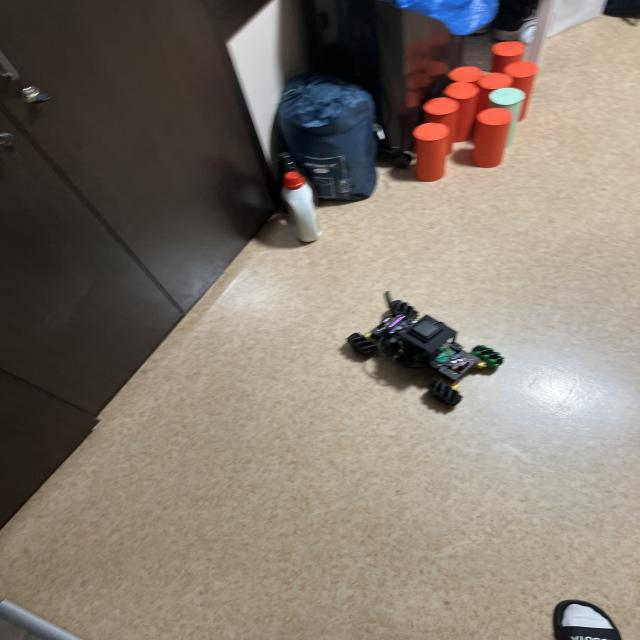robot: (347, 291, 503, 406)
